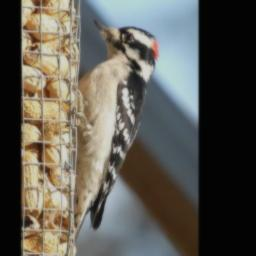Woodpecker: (68, 20, 161, 240)
